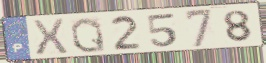2: (109, 14, 143, 52)
5: (145, 12, 179, 49)
7: (183, 7, 215, 49)
8: (221, 9, 255, 43)
Q: (69, 16, 108, 54)
X: (30, 17, 70, 58)
